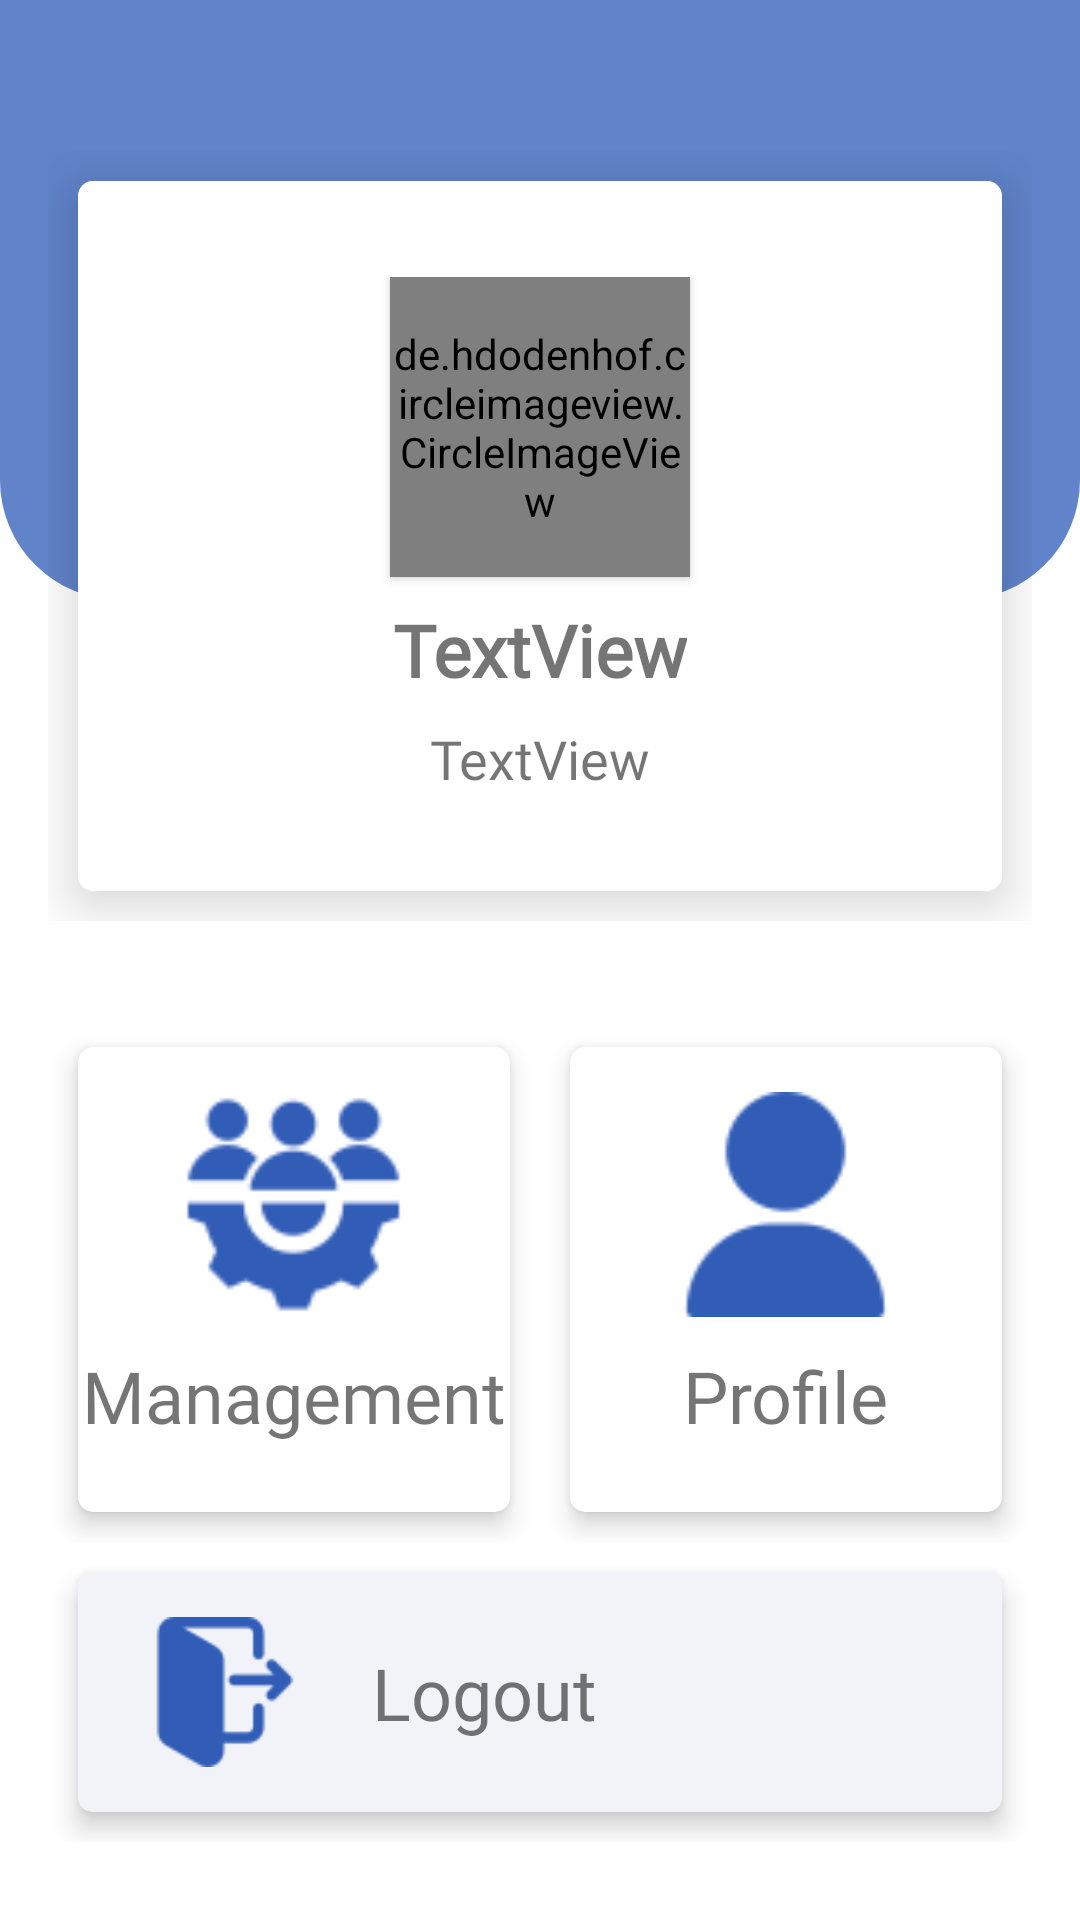

Named icons in this screenshot (1080x1920) and their centers, point (x, y):
user: point (785, 1204)
